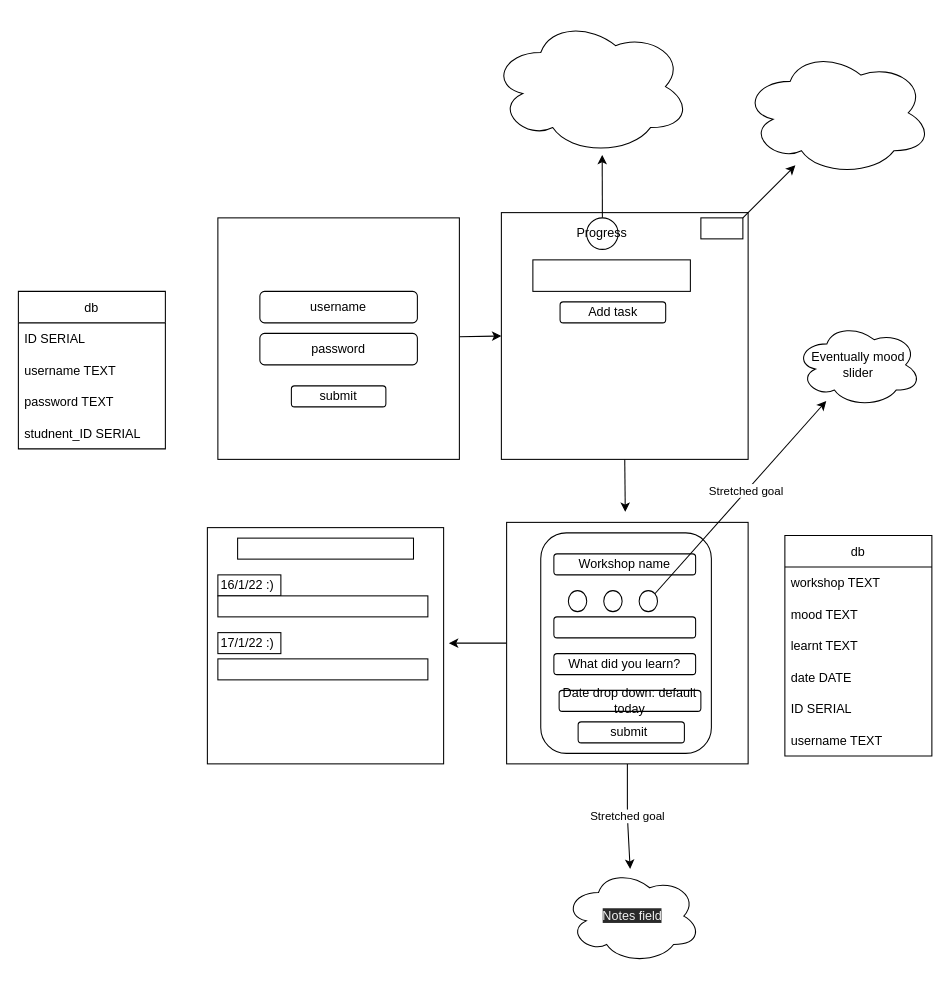
Some shapes in this 950 by 982 pixel diagram are drawn without their labels. Each missing label, with the centre of its shape:
burger menu could be added feuuture tbd: point 837,112
Hi, user! How was your day?: point 611,275
How far did you get?: point 624,627
progress visual could be added feuuture tbd: point 590,86
User, your journey at a glance: point 325,548
